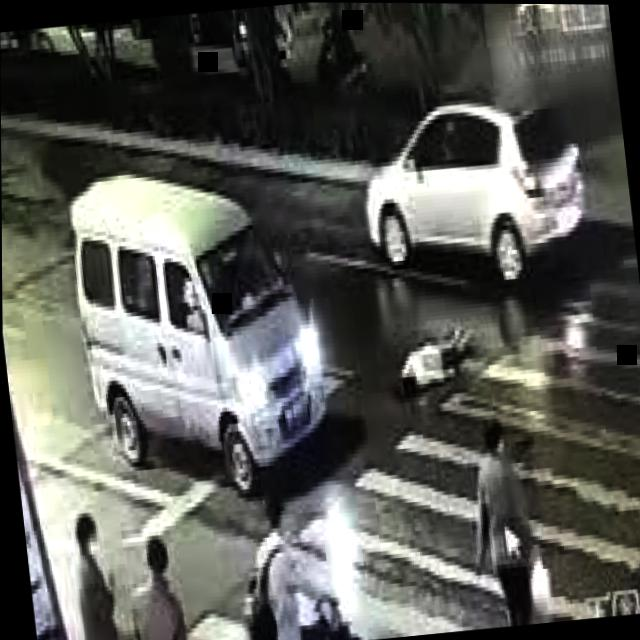Fall-Detected: (378, 298, 486, 403)
